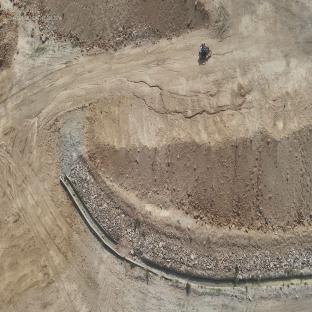rock_toe: (69, 153, 312, 276)
toe_drain: (59, 172, 312, 298)
